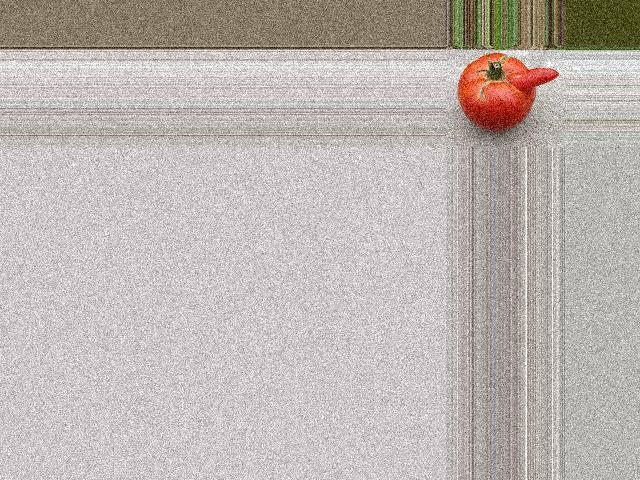tomato: (456, 53, 535, 129)
